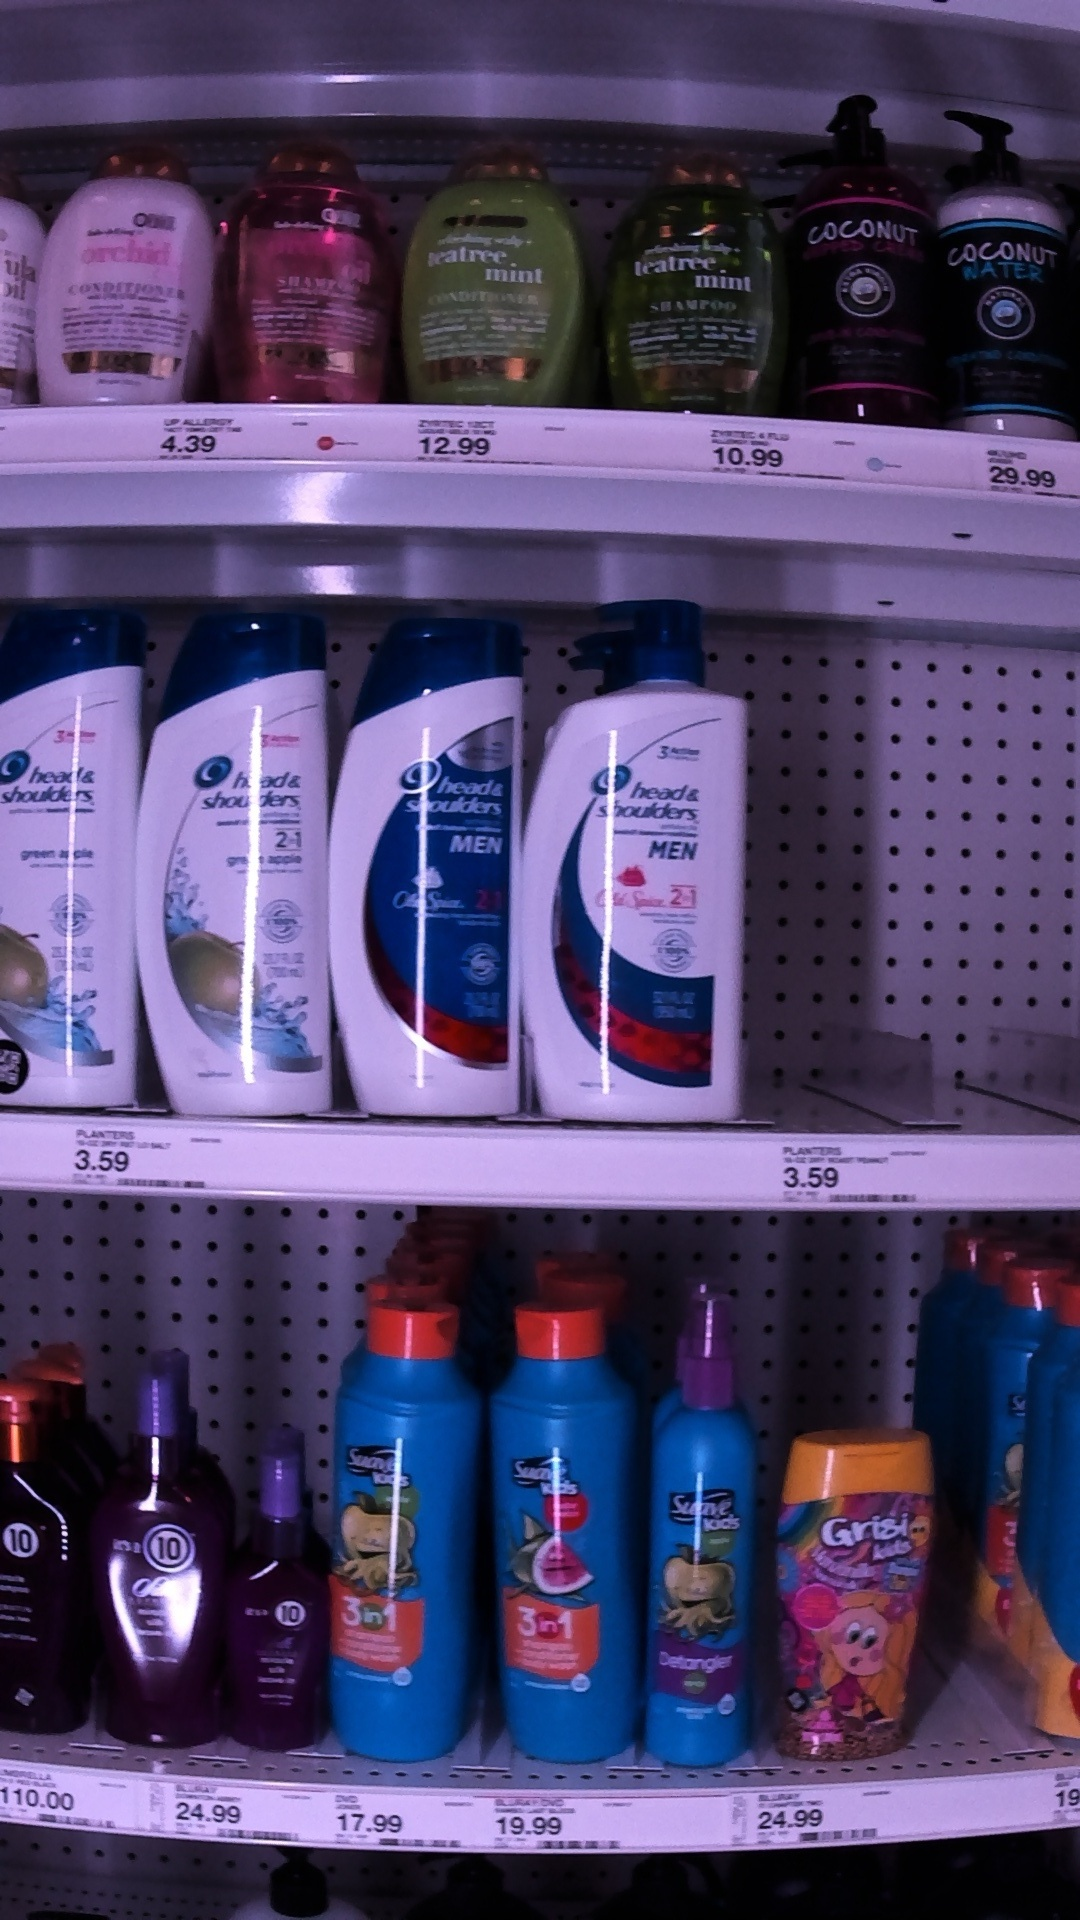ptag: (766, 1129, 922, 1220), (733, 1775, 899, 1855), (152, 1768, 306, 1853), (75, 1113, 211, 1207), (493, 1784, 632, 1866), (695, 411, 831, 489), (331, 1782, 458, 1865), (1, 1764, 135, 1837), (144, 400, 278, 471), (978, 429, 1080, 508), (415, 402, 520, 475)
